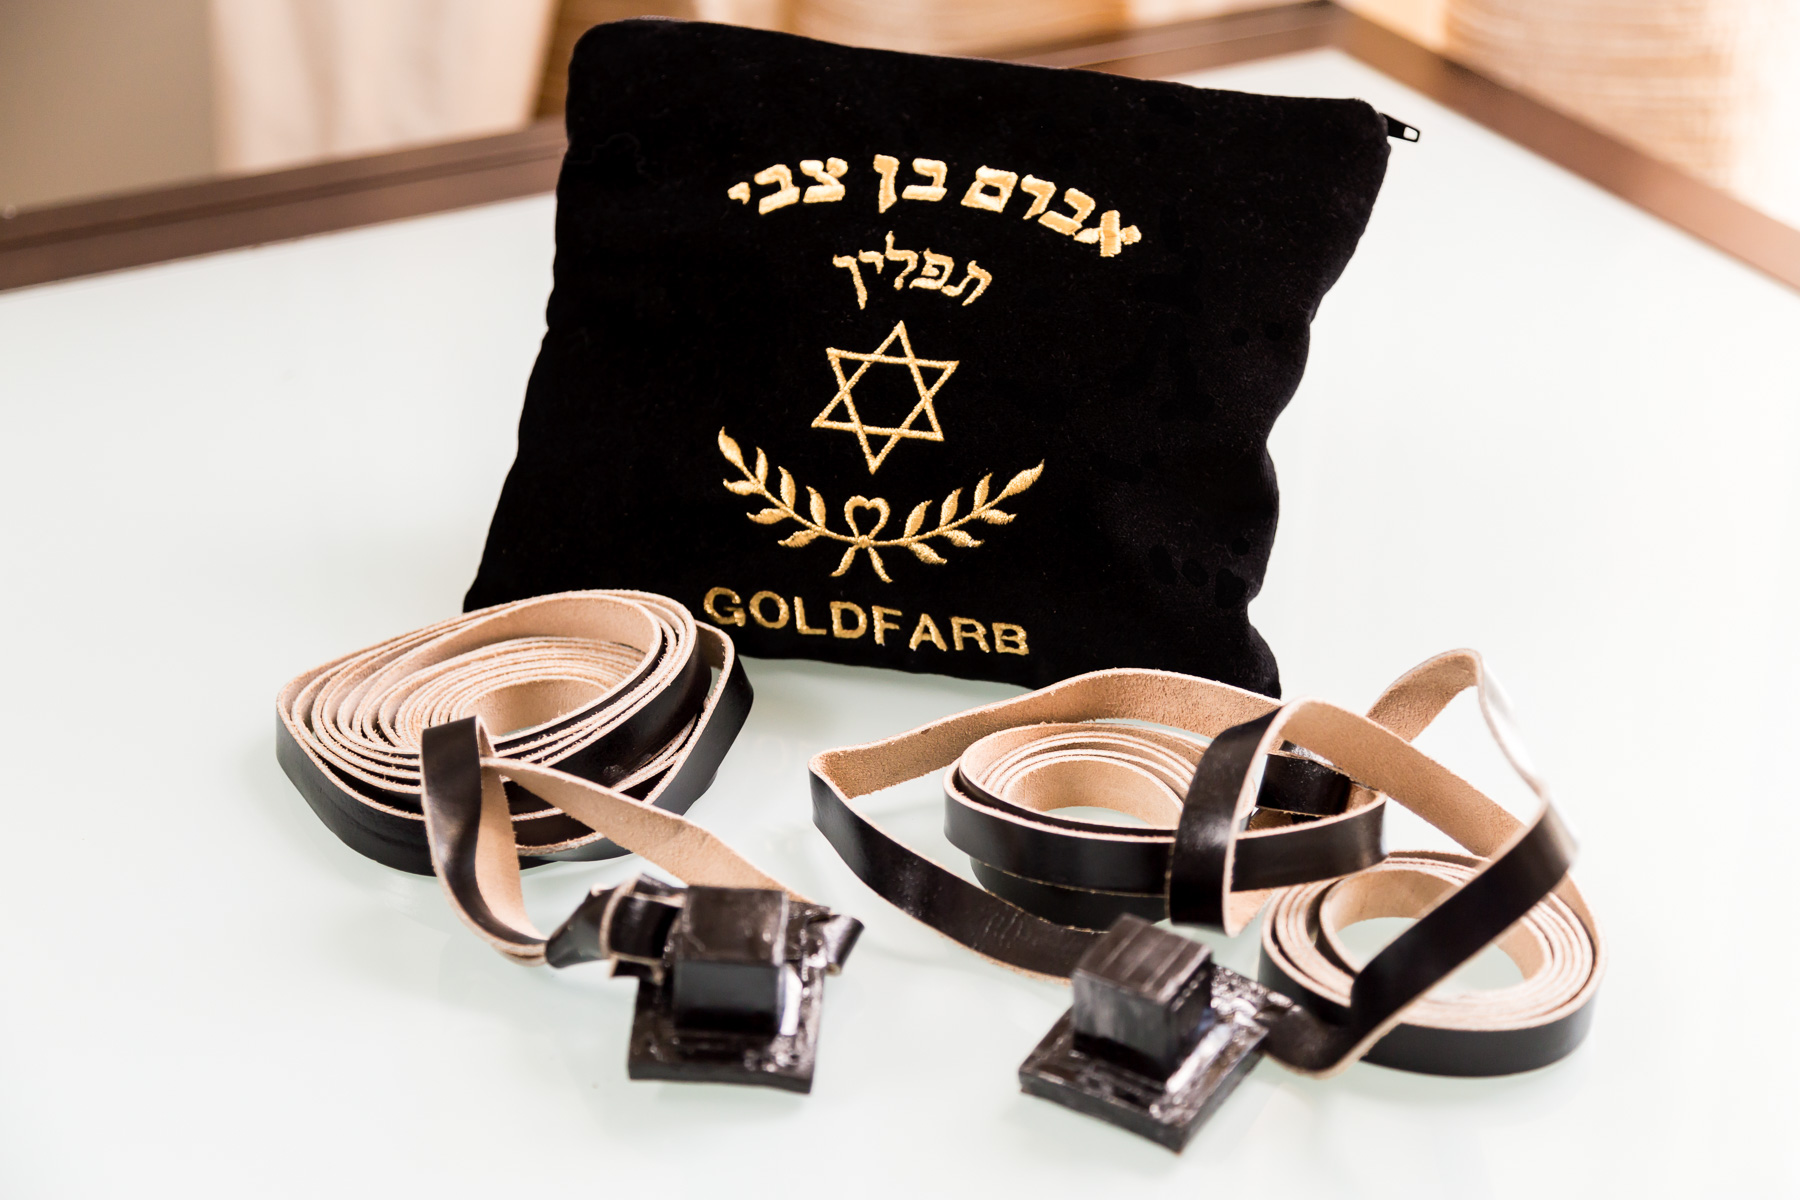tefillin: (1019, 909, 1297, 1158), (625, 882, 827, 1095)
